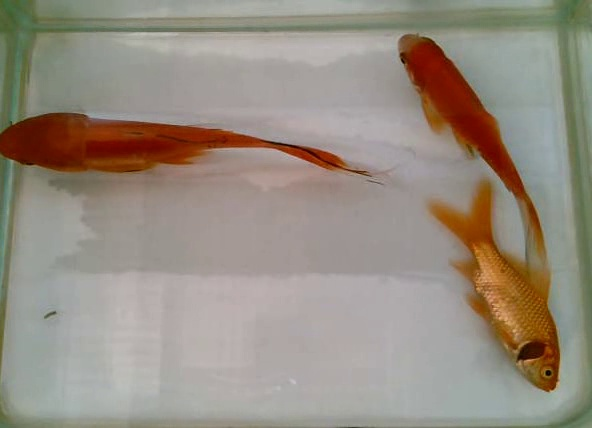alive_fish: (394, 28, 555, 286), (1, 103, 413, 190)
dead_fish: (416, 172, 567, 396)
